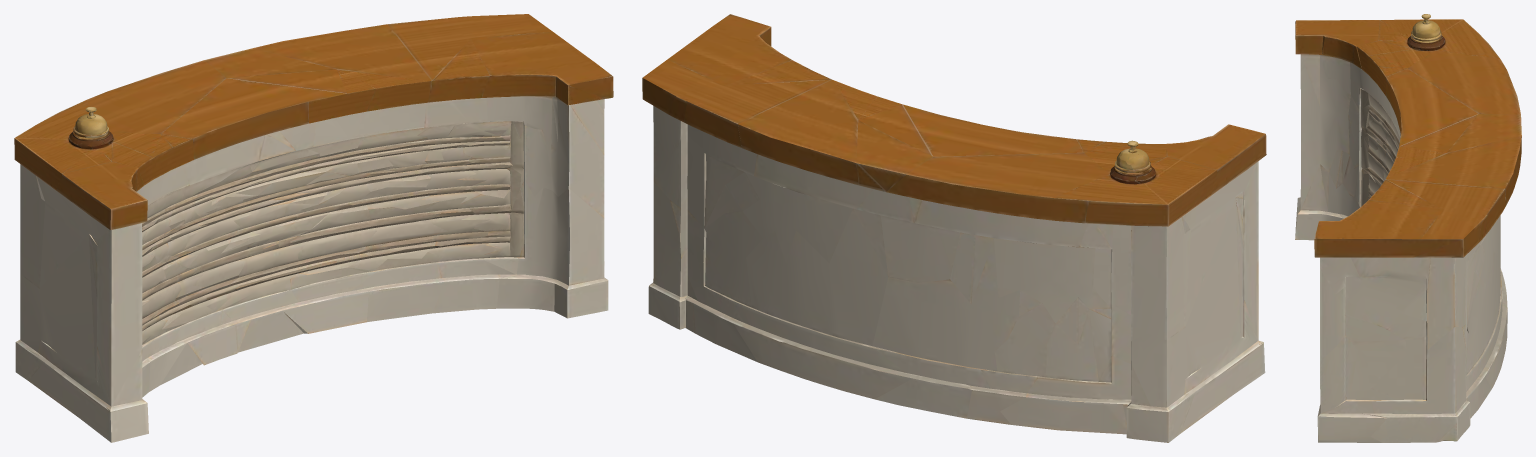
File: barCounter.glb
3 renders of one model, left to right at view 1: azimuth 30°, elevation 25°; view 2: azimuth 150°, elevation 25°; view 3: azimuth 270°, elevation 25°, orthographic. The views are drawn at different scales.
Parts seen in each view (by area): view 1: Mesh_0; view 2: Mesh_0; view 3: Mesh_0.
Part boxes in pixels (x1,y1,x2,y2): Mesh_0: (14, 14, 613, 442); Mesh_0: (642, 14, 1266, 442); Mesh_0: (1295, 14, 1521, 442).
Size of the model in its own units: 1.83 by 0.9101 by 0.7999.
Materials: 1 (1 with a texture image).
